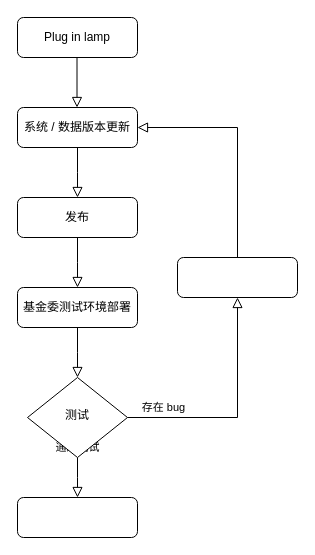
The diagram is 315 pixels wide and 555 high, and some of its shapes have lost their labels. The shapes that lost their labels are listed below. From the top down, each one's box as (x1, y1, x2, y2) in pixels, then its label:
(176, 256, 298, 298): 开发人员修复 bug / 修复数据
(16, 496, 138, 538): 上线生产环境
